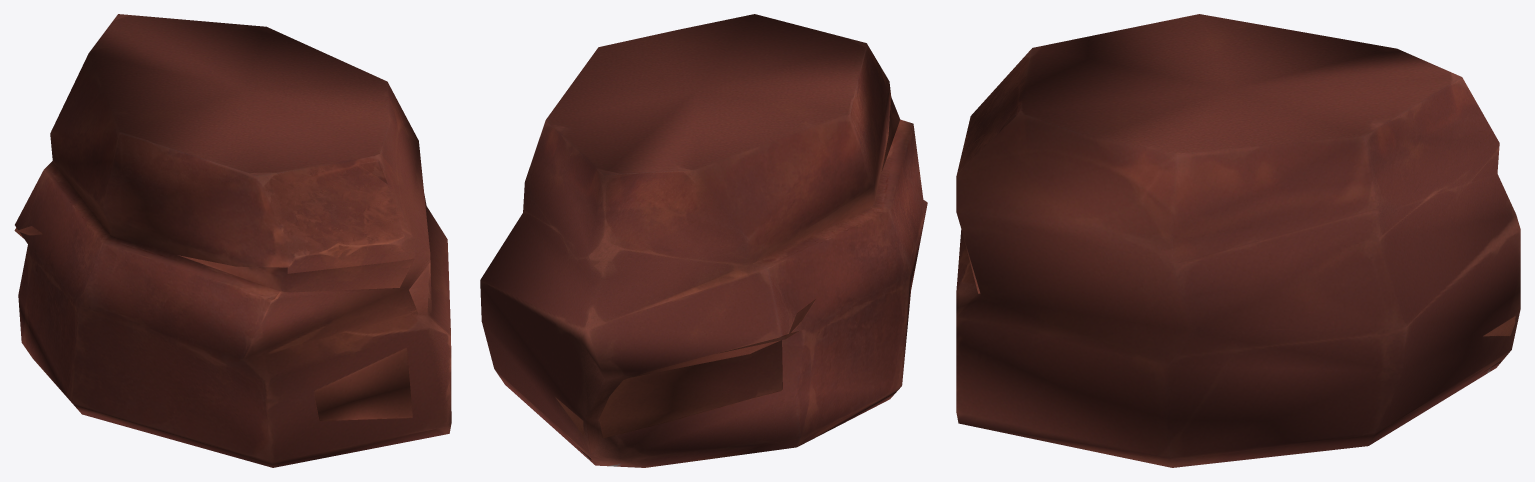
File: RedRoadStone.fbx
The picture shows the model from 3 angles, left to right: view 1: azimuth 30°, elevation 25°; view 2: azimuth 150°, elevation 25°; view 3: azimuth 270°, elevation 25°; orthographic projection. The views are drawn at different scales.
Parts seen in each view (by area): view 1: Mesh_0; view 2: Mesh_0; view 3: Mesh_0.
Boxes of the visible parts, left/top/right/bottom form: Mesh_0: left=14, top=14, right=451, bottom=467; Mesh_0: left=480, top=14, right=927, bottom=467; Mesh_0: left=956, top=14, right=1520, bottom=467.
Size of the model in its own units: 80.27 by 57.81 by 100.
1 material, 1 textured.
